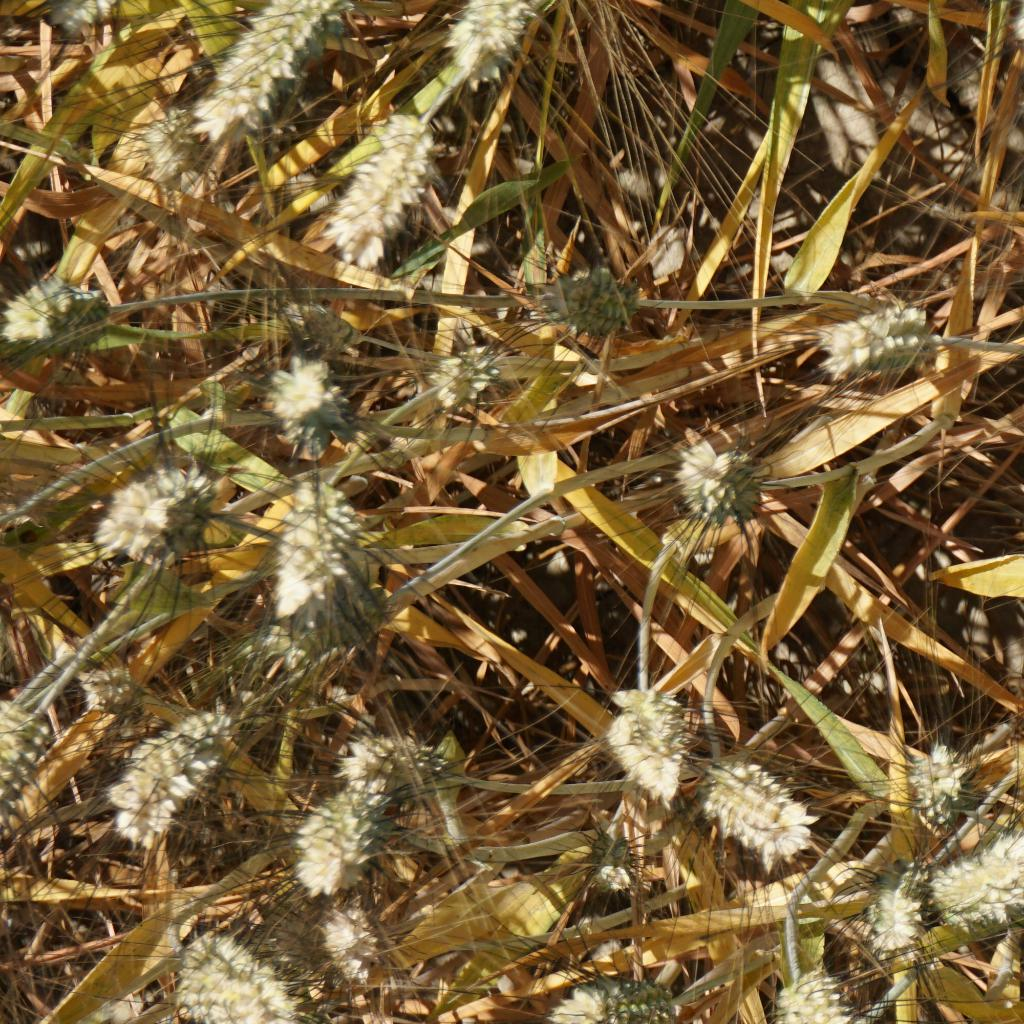0-0: (314, 123, 446, 275), (197, 0, 344, 132), (256, 484, 366, 614), (108, 710, 214, 838), (84, 454, 208, 563), (598, 677, 689, 807), (173, 917, 291, 1017), (697, 754, 801, 852), (301, 891, 401, 990), (283, 787, 376, 893), (7, 267, 100, 372), (828, 291, 943, 370), (121, 112, 214, 208), (258, 364, 360, 449), (531, 973, 699, 1024), (870, 852, 949, 958), (437, 0, 553, 69), (931, 842, 1024, 925), (340, 730, 451, 797), (898, 730, 980, 815), (525, 263, 633, 326), (681, 444, 761, 529), (273, 291, 364, 364), (62, 655, 159, 720), (990, 0, 1024, 181), (758, 956, 841, 1024), (0, 679, 41, 813), (419, 336, 498, 405), (587, 822, 648, 896), (41, 0, 149, 33)
